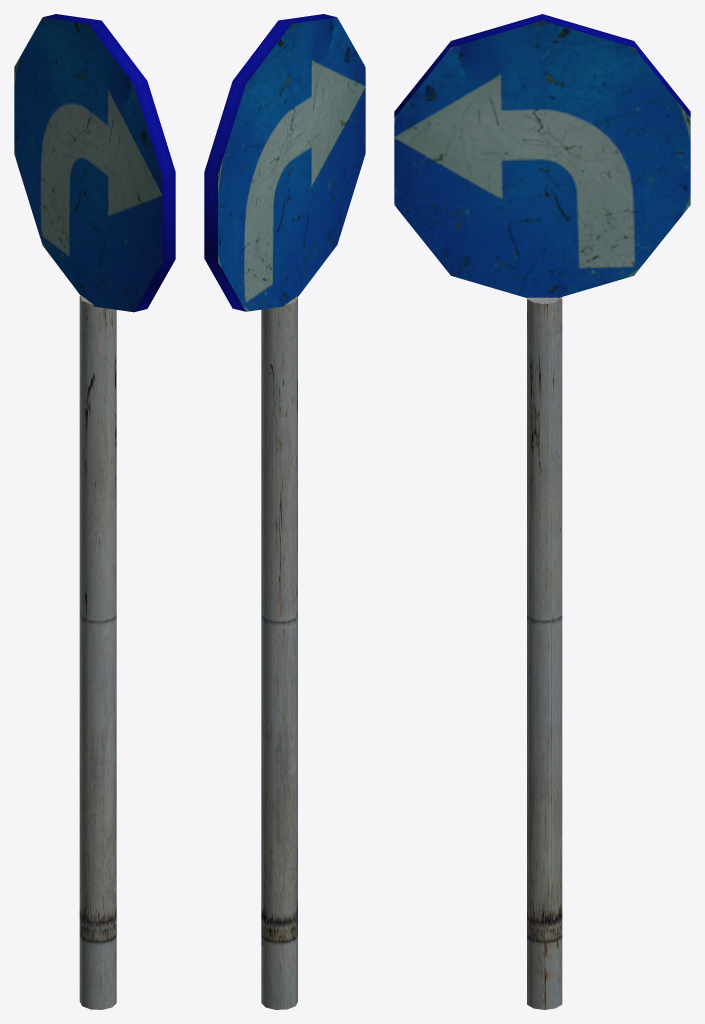
File: sign17.FBX
3 renders of one model, left to right at view 1: azimuth 30°, elevation 25°; view 2: azimuth 150°, elevation 25°; view 3: azimuth 270°, elevation 25°, orthographic.
Visible parts, largest first — view 1: Cylinder002; view 2: Cylinder002; view 3: Cylinder002.
Part boxes in pixels (x1,y1,x2,y2): Cylinder002: (14, 14, 175, 1009); Cylinder002: (204, 14, 365, 1009); Cylinder002: (394, 14, 690, 1009).
Size of the model in its own units: 0.956 by 27.86 by 7.61.
